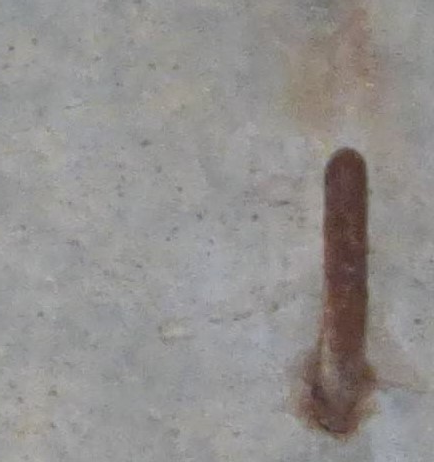Exposed reinforcement: (323, 146, 368, 409)
